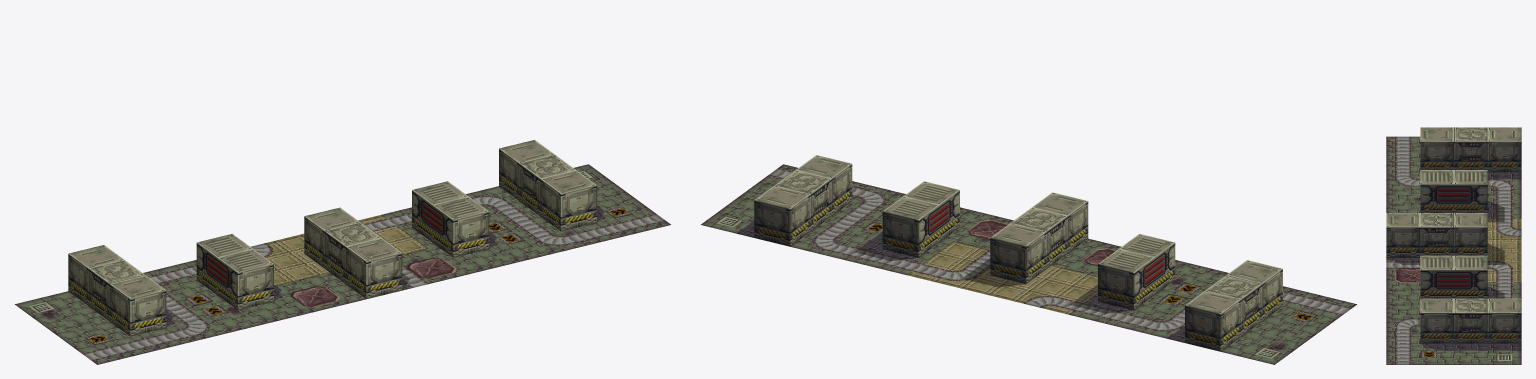
The model's file is metal_depot.glb.
The picture shows the model from 3 angles, left to right: view 1: azimuth 30°, elevation 25°; view 2: azimuth 150°, elevation 25°; view 3: azimuth 270°, elevation 25°; orthographic projection. The views are drawn at different scales.
Parts seen in each view (by area): view 1: MD_Ground-col, MD_Blocks-col; view 2: MD_Blocks-col, MD_Ground-col; view 3: MD_Blocks-col, MD_Ground-col.
Part boxes in pixels (left/top/right/bottom): MD_Ground-col: left=15, top=164, right=670, bottom=364; MD_Blocks-col: left=68, top=140, right=596, bottom=336; MD_Blocks-col: left=754, top=155, right=1282, bottom=351; MD_Ground-col: left=701, top=164, right=1356, bottom=364; MD_Blocks-col: left=1386, top=127, right=1521, bottom=343; MD_Ground-col: left=1386, top=136, right=1521, bottom=364.
Bounding box in the file's own units: 8 × 2 × 2.
2 materials, 1 textured.
